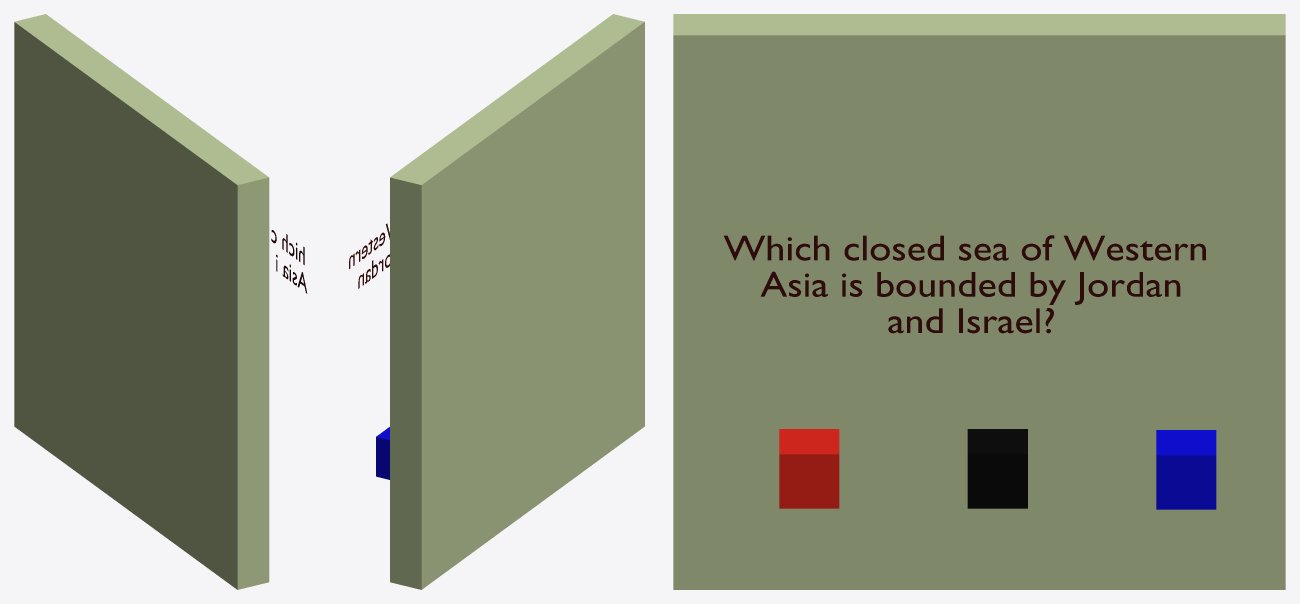
The model's file is enigme.fbx.
3 views of the same model, side by side, from view 1: azimuth 30°, elevation 25°; view 2: azimuth 150°, elevation 25°; view 3: azimuth 270°, elevation 25° (orthographic). The views are drawn at different scales.
Visible parts, largest first — view 1: Plane, Text; view 2: Plane, Cube.002, Text; view 3: Plane, Text, Cube, Cube.001, Cube.002.
Boxes of the visible parts, x1,y1,x2,y2 form: Plane: (14,14,269,589); Text: (271,230,307,293); Plane: (390,14,644,589); Cube.002: (376,427,389,479); Text: (349,223,389,288); Plane: (673,14,1285,589); Text: (724,235,1205,333); Cube: (779,429,839,508); Cube.001: (967,429,1027,508); Cube.002: (1156,430,1216,509).
Bounding box in the file's own units: 40.11 × 153 × 153.
